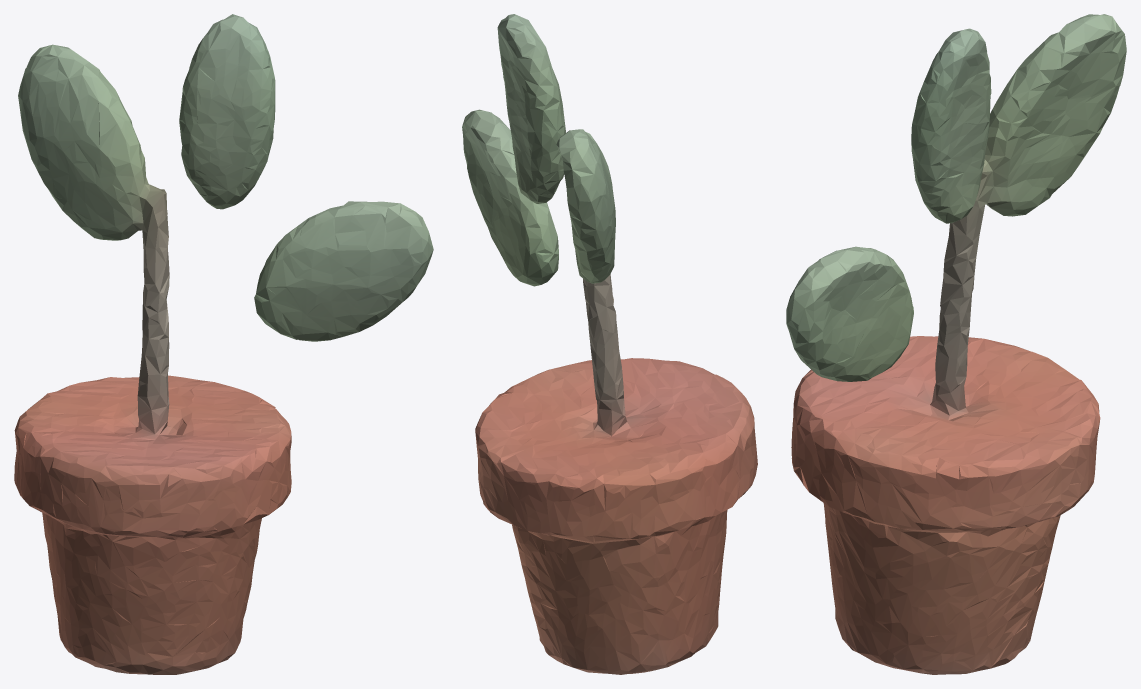
The model's file is cafe-1.glb.
3 renders of one model, left to right at view 1: azimuth 30°, elevation 25°; view 2: azimuth 150°, elevation 25°; view 3: azimuth 270°, elevation 25°, orthographic. The views are drawn at different scales.
Visible parts, largest first — view 1: geometry_0; view 2: geometry_0; view 3: geometry_0.
Part boxes in pixels (x1,y1,x2,y2): geometry_0: (14,14,433,674); geometry_0: (462,14,757,674); geometry_0: (786,14,1126,674).
Size of the model in its own units: 0.5284 by 0.9208 by 0.4269.
